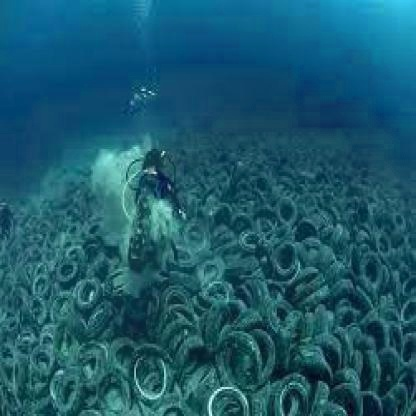tire: (195, 147, 416, 412), (5, 281, 196, 412), (2, 178, 101, 279)
